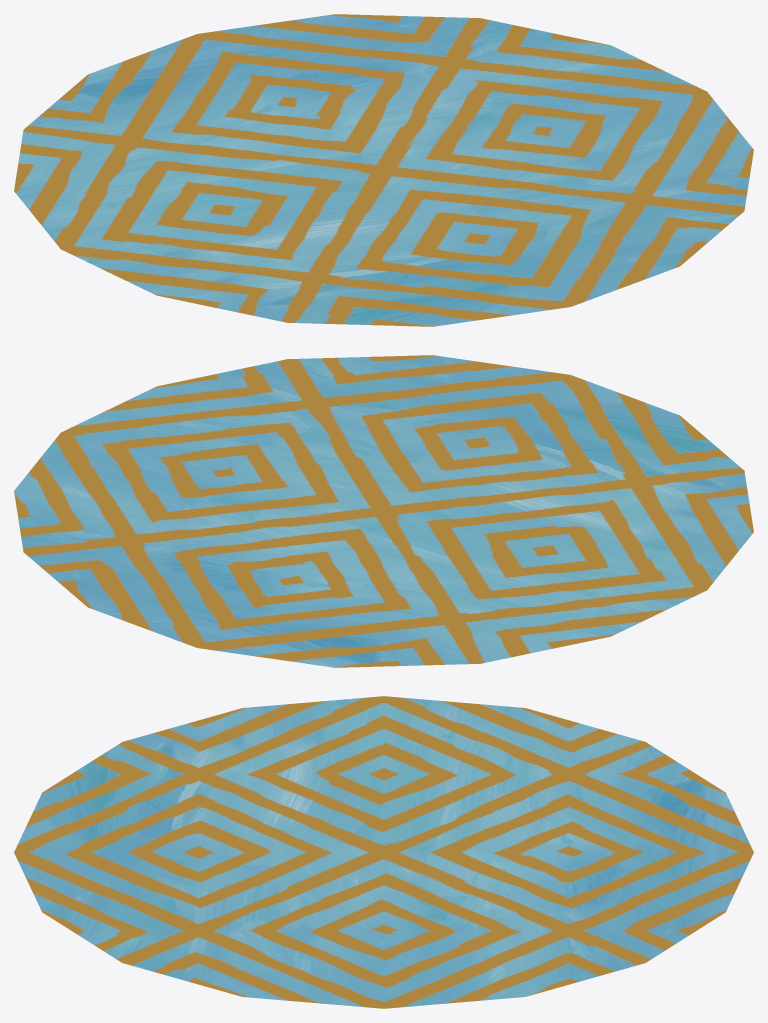
File: SM_Ground_01.fbx
3 views of the same model, one above another, from view 1: azimuth 30°, elevation 25°; view 2: azimuth 150°, elevation 25°; view 3: azimuth 270°, elevation 25° (orthographic).
Parts seen in each view (by area): view 1: SM_Ground_01; view 2: SM_Ground_01; view 3: SM_Ground_01.
Part boxes in pixels (x1,y1,x2,y2): SM_Ground_01: (14,14,753,326); SM_Ground_01: (14,355,753,667); SM_Ground_01: (14,696,753,1008).
Bounding box in the file's own units: 15074 × 0.00246 × 15074.
